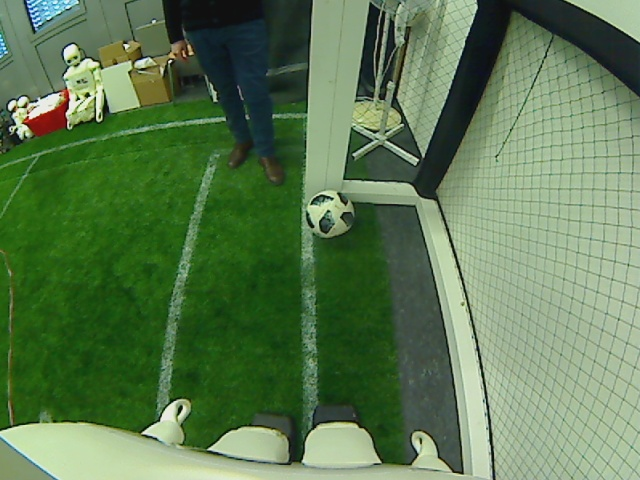ball: (305, 190, 356, 237)
